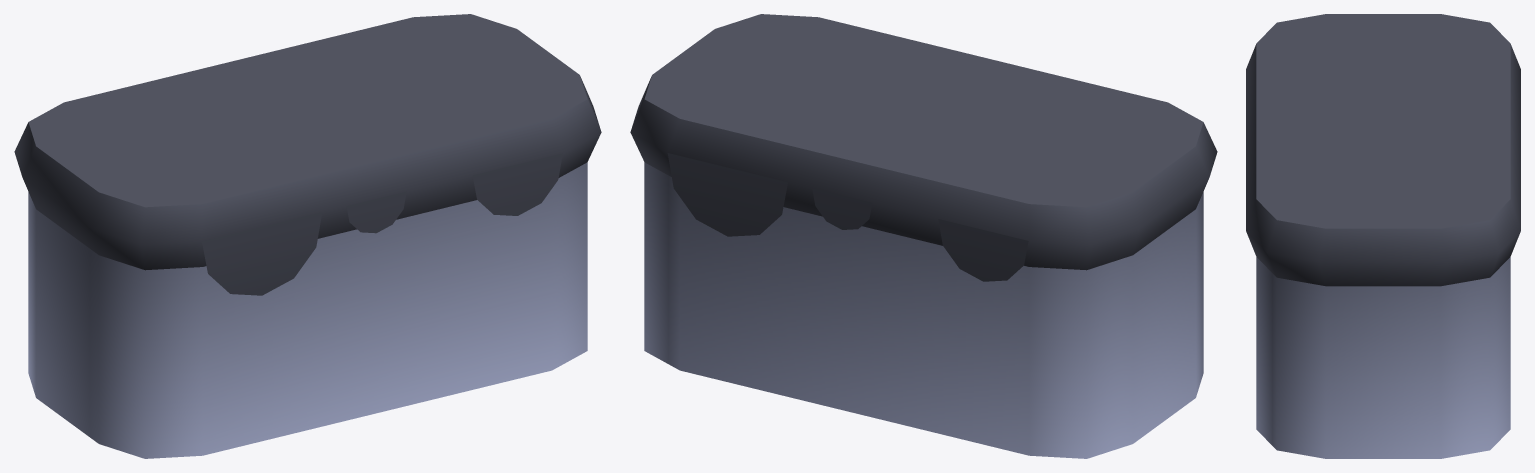
The model's file is block-snow-overhang-long.glb.
3 views of the same model, side by side, from view 1: azimuth 30°, elevation 25°; view 2: azimuth 150°, elevation 25°; view 3: azimuth 270°, elevation 25° (orthographic). The views are drawn at different scales.
Visible parts, largest first — view 1: block-snow-overhang-long; view 2: block-snow-overhang-long; view 3: block-snow-overhang-long.
Part boxes in pixels (x1,y1,x2,y2): block-snow-overhang-long: (14, 14, 601, 458); block-snow-overhang-long: (630, 14, 1217, 458); block-snow-overhang-long: (1246, 14, 1520, 458).
Size of the model in its own units: 2.08 by 1 by 1.08.
